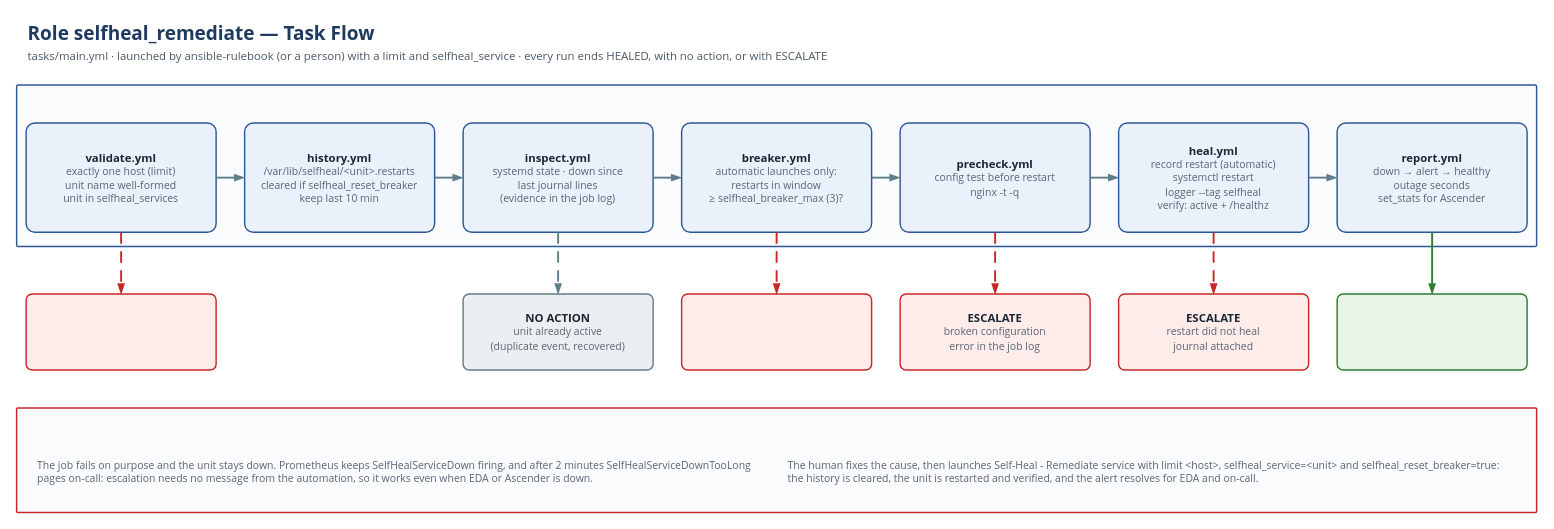
The diagram is 1554 pixels wide and 529 high, and some of its shapes have lost their labels. Each missing label, with the box of its shape:
ESCALATE circuit breaker open no restart: (680, 293, 872, 370)
HEALED outage · detection remediation seconds: (1336, 293, 1527, 370)
Main path: (15, 84, 1537, 247)
REFUSED event not trusted: job fails, nothing touched: (25, 293, 216, 370)
What happens after ESCALATE: (15, 407, 1537, 513)
